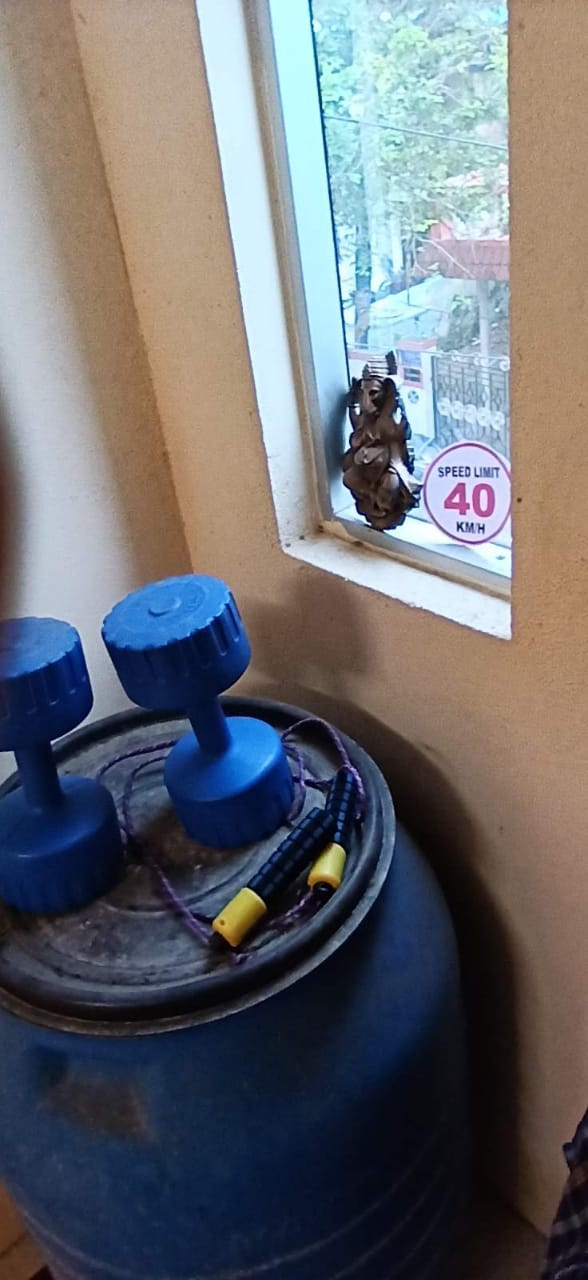SPEED LIMIT (40 KM/H): (394, 426, 521, 567)
